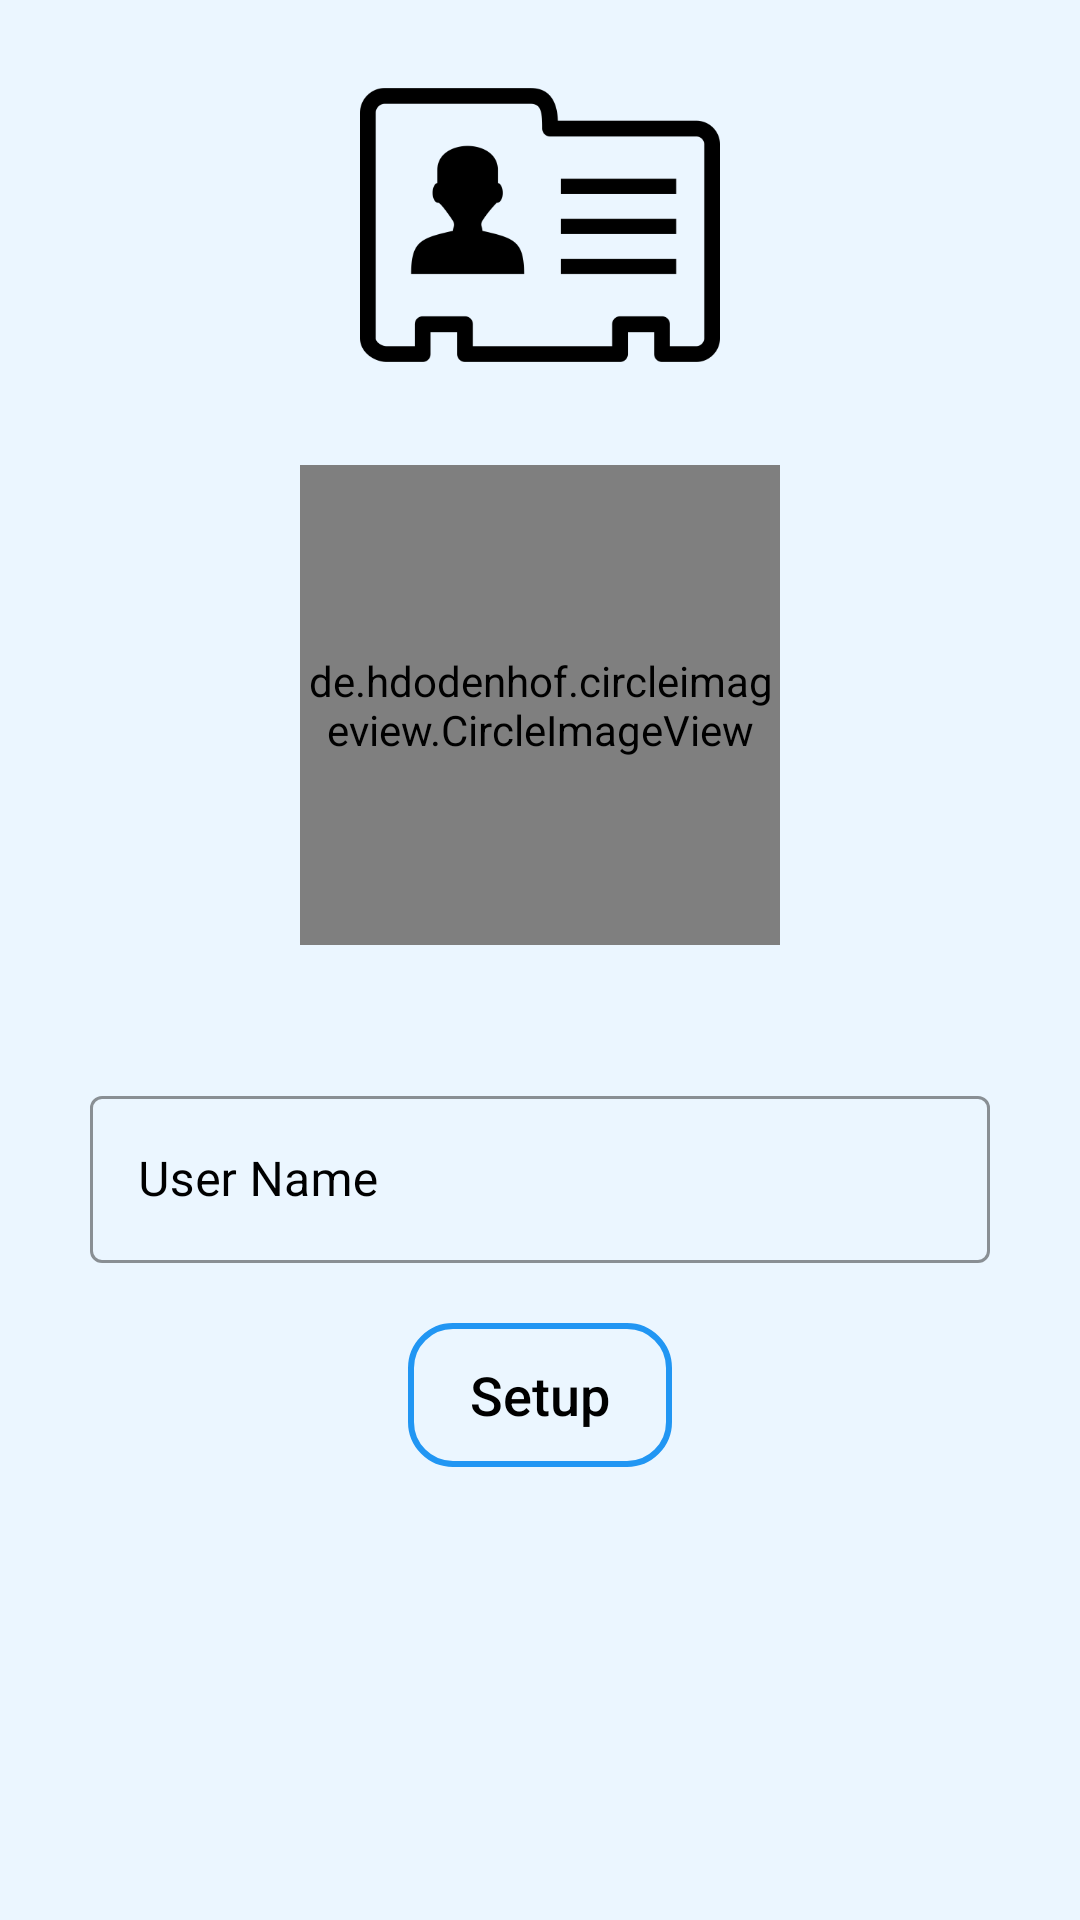

Screen size 1080px x 1920px. Icon name, then its box in pixels as {"x1": x1, "y1": y1, "x2": x2, "y2": y2}:
profile: {"x1": 360, "y1": 88, "x2": 720, "y2": 362}
